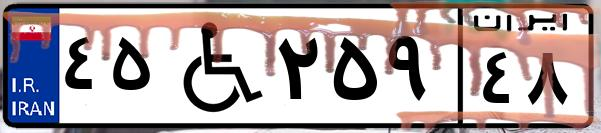2: (270, 28, 330, 110)
4: (57, 26, 110, 100), (475, 38, 525, 113)
5: (330, 28, 385, 110), (110, 28, 158, 98)
8: (525, 38, 570, 115)
9: (385, 28, 445, 110)
ژ (معلولین و جانبازان): (158, 12, 270, 120)
